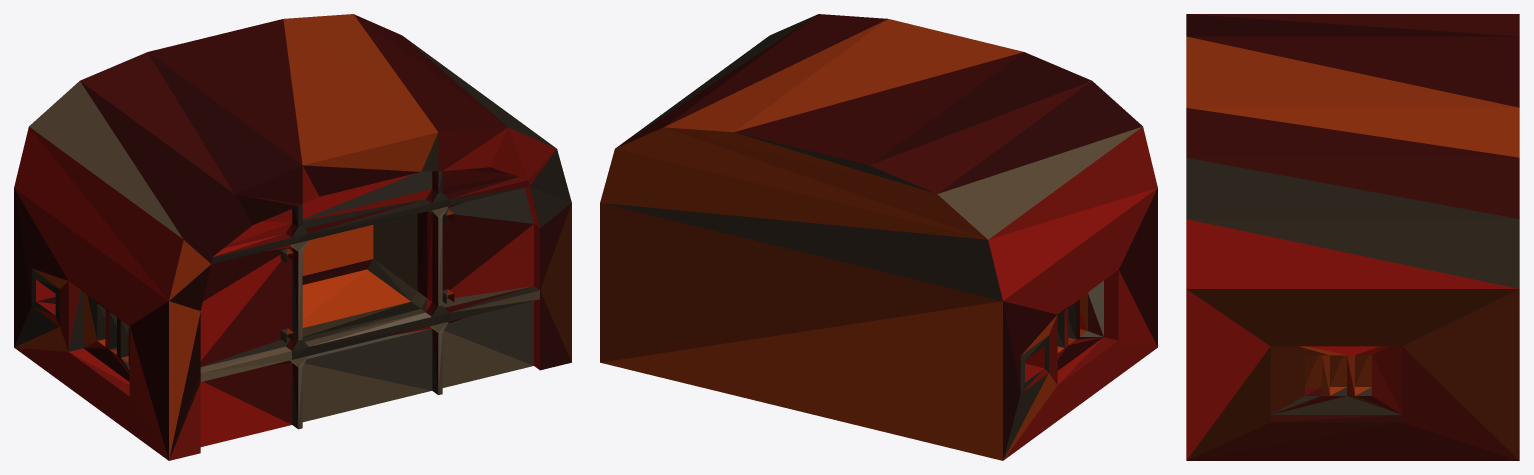
File: furnace.obj
The picture shows the model from 3 angles, left to right: view 1: azimuth 30°, elevation 25°; view 2: azimuth 150°, elevation 25°; view 3: azimuth 270°, elevation 25°; orthographic projection. The views are drawn at different scales.
Parts seen in each view (by area): view 1: Object Furnace 2026-09-12_20-20-50; view 2: Object Furnace 2026-09-12_20-20-50; view 3: Object Furnace 2026-09-12_20-20-50.
Part boxes in pixels (x1,y1,x2,y2): Object Furnace 2026-09-12_20-20-50: [14, 14, 571, 460]; Object Furnace 2026-09-12_20-20-50: [600, 14, 1157, 460]; Object Furnace 2026-09-12_20-20-50: [1186, 14, 1519, 460].
Bounding box in the file's own units: 380 × 237 × 253.
